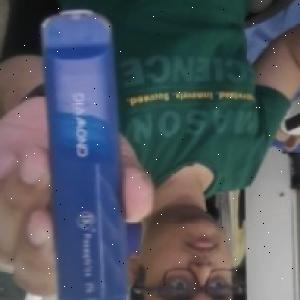Diamond-E-Ciggirate: (38, 7, 132, 300)
